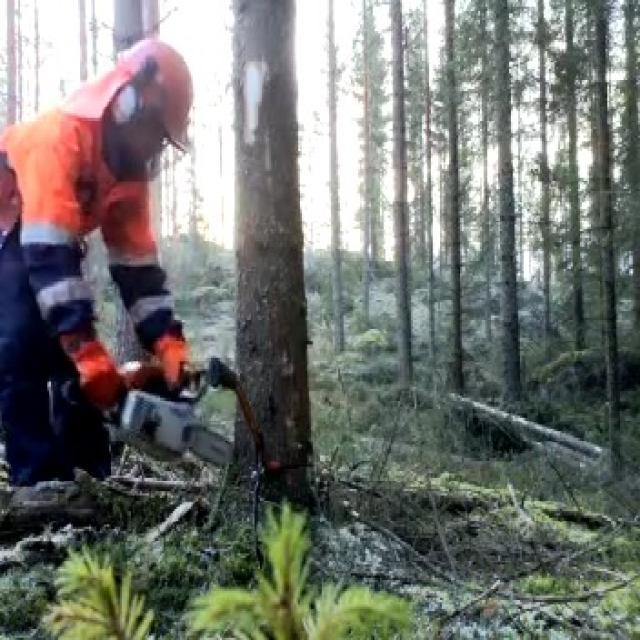Chainsaw: (101, 338, 244, 484)
